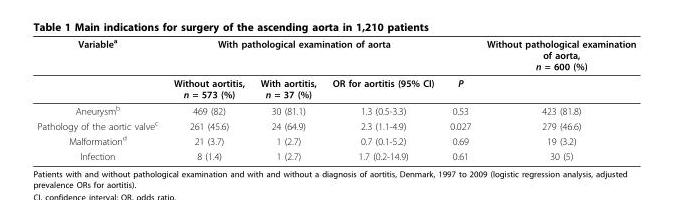table: (36, 36, 635, 161)
table column: (478, 36, 635, 161), (36, 36, 165, 161), (323, 36, 441, 161), (165, 36, 251, 161), (251, 36, 323, 161), (441, 36, 478, 161)
table column header: (36, 36, 635, 101)
table row: (36, 36, 635, 74), (36, 74, 635, 101), (36, 101, 635, 117), (36, 132, 635, 148), (36, 117, 635, 132), (36, 148, 635, 161)
table spanning cell: (165, 36, 441, 74), (478, 36, 635, 101), (36, 36, 165, 101), (441, 36, 478, 101)
